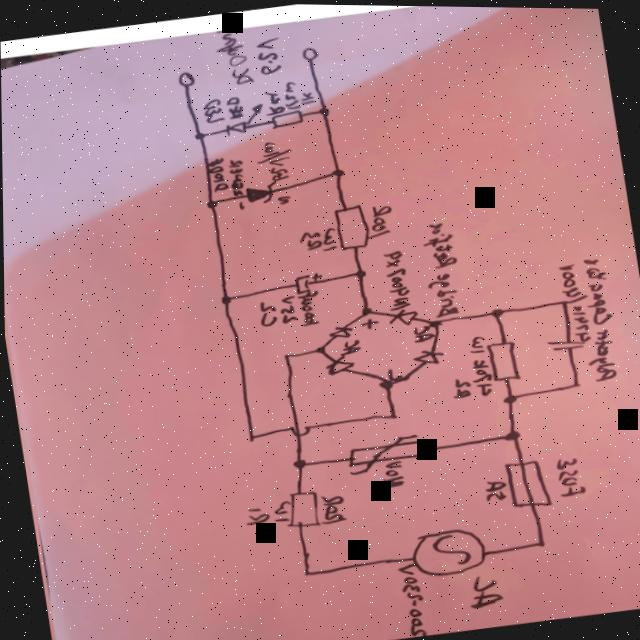capacitor: (543, 334, 585, 353), (291, 271, 324, 295)
crossover: (283, 420, 313, 441)
diode: (233, 178, 292, 210), (220, 102, 269, 138), (321, 354, 355, 376), (386, 306, 419, 327), (412, 346, 446, 366), (323, 322, 355, 341)
junction: (378, 378, 395, 390), (428, 317, 445, 329), (203, 198, 220, 210), (330, 166, 347, 178), (500, 392, 518, 403), (311, 344, 329, 355), (358, 305, 376, 316), (289, 458, 306, 469), (503, 429, 520, 440), (487, 306, 504, 317), (351, 268, 368, 279), (219, 294, 236, 305), (316, 106, 333, 117), (192, 131, 209, 142), (532, 539, 547, 549), (299, 568, 314, 578), (384, 410, 397, 421), (559, 296, 572, 307), (569, 379, 582, 389), (244, 432, 257, 442), (280, 351, 293, 361)
resistor: (331, 202, 373, 251), (482, 338, 522, 383), (280, 489, 321, 530), (269, 109, 305, 130)
source: (408, 523, 488, 581)
terminal: (174, 70, 199, 89), (296, 44, 320, 62)
text: (573, 253, 625, 384), (419, 220, 465, 318), (556, 259, 590, 342), (211, 25, 255, 87), (393, 560, 428, 637), (378, 248, 415, 311), (465, 333, 498, 398), (254, 138, 297, 183), (204, 154, 247, 199), (460, 570, 505, 610), (551, 453, 587, 497), (361, 203, 395, 239), (254, 36, 284, 75), (294, 288, 323, 327), (317, 492, 347, 525), (378, 459, 406, 489), (276, 294, 300, 324), (253, 299, 277, 329), (200, 97, 225, 125), (239, 505, 270, 527), (481, 478, 509, 502), (281, 79, 302, 111), (447, 375, 473, 400), (269, 498, 292, 525), (265, 89, 287, 117), (297, 228, 322, 252), (319, 226, 342, 251), (409, 323, 435, 344), (224, 95, 245, 121), (337, 338, 362, 356), (296, 89, 316, 111), (359, 317, 378, 331), (383, 368, 396, 380)
